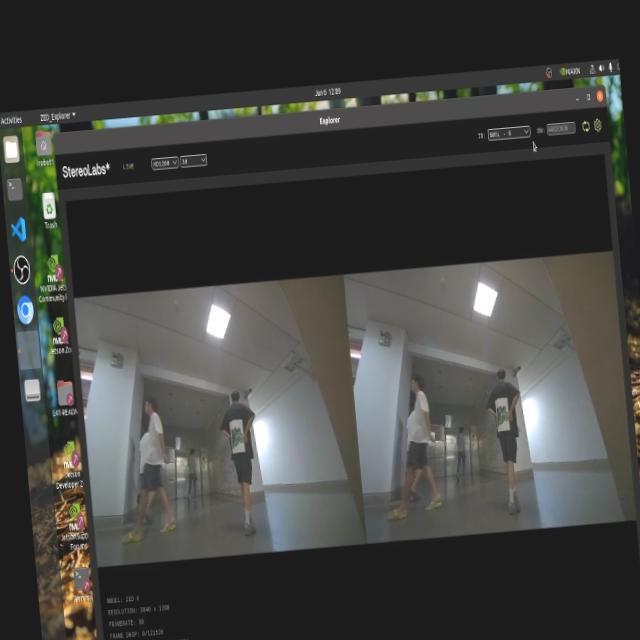green: (492, 396, 512, 428), (231, 421, 249, 445)
